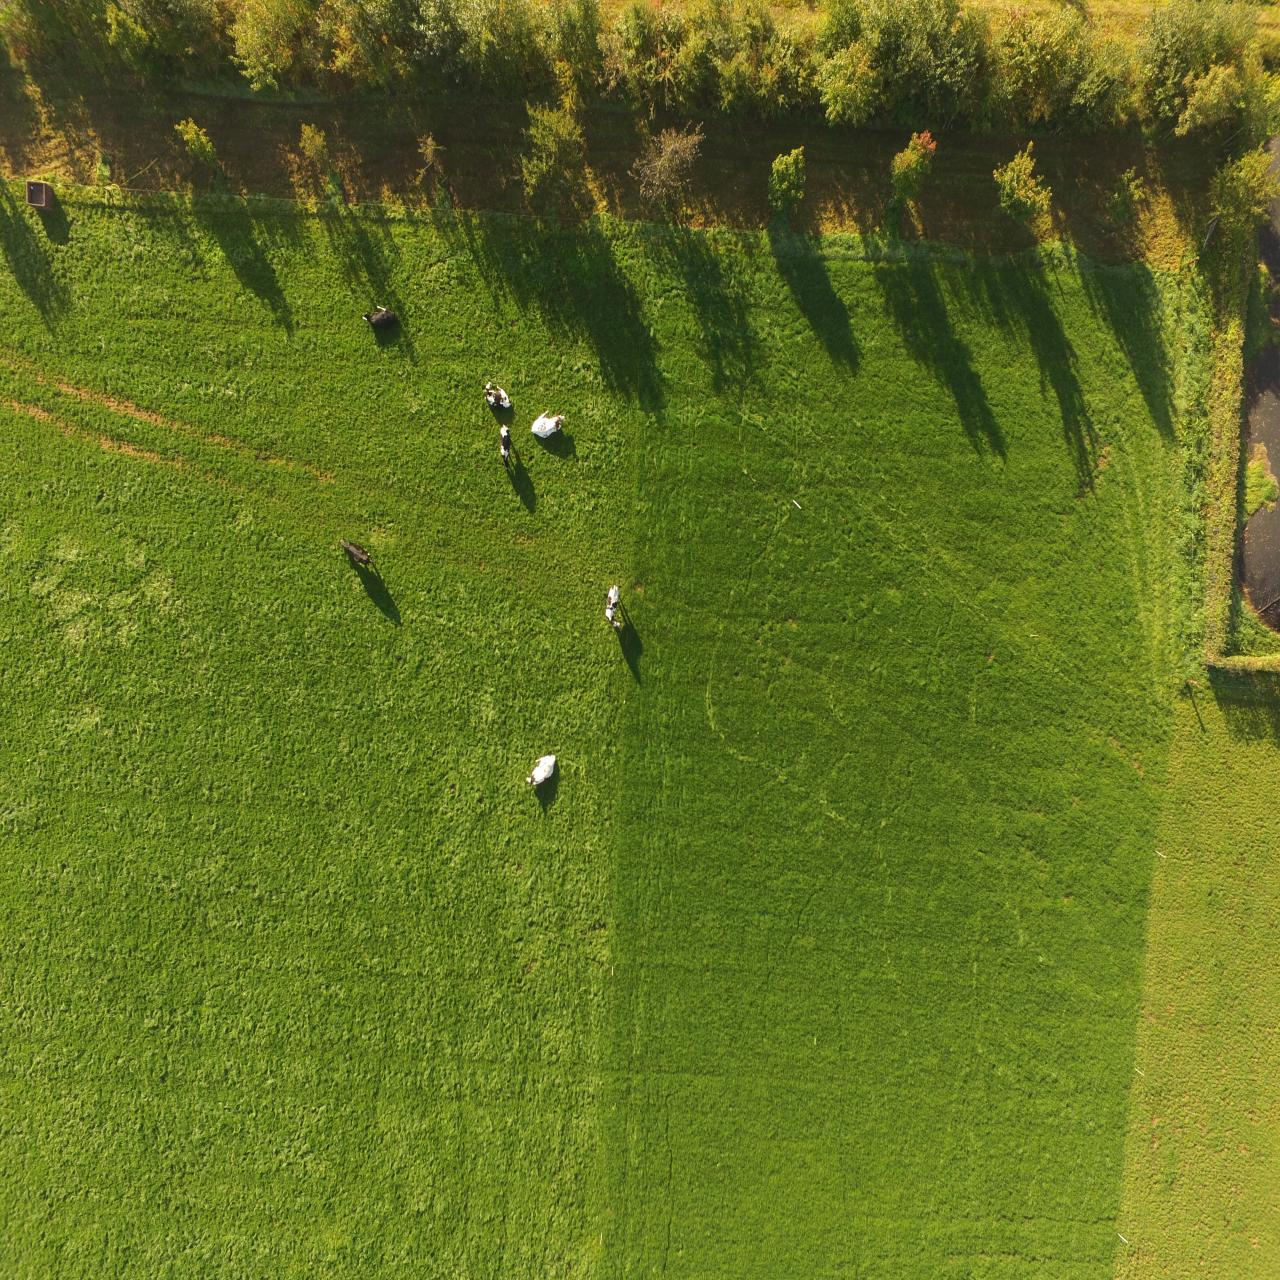cow: (481, 376, 522, 431), (359, 301, 404, 349), (520, 747, 563, 792), (338, 530, 373, 584), (529, 409, 576, 447), (602, 579, 621, 638), (493, 427, 512, 470)
